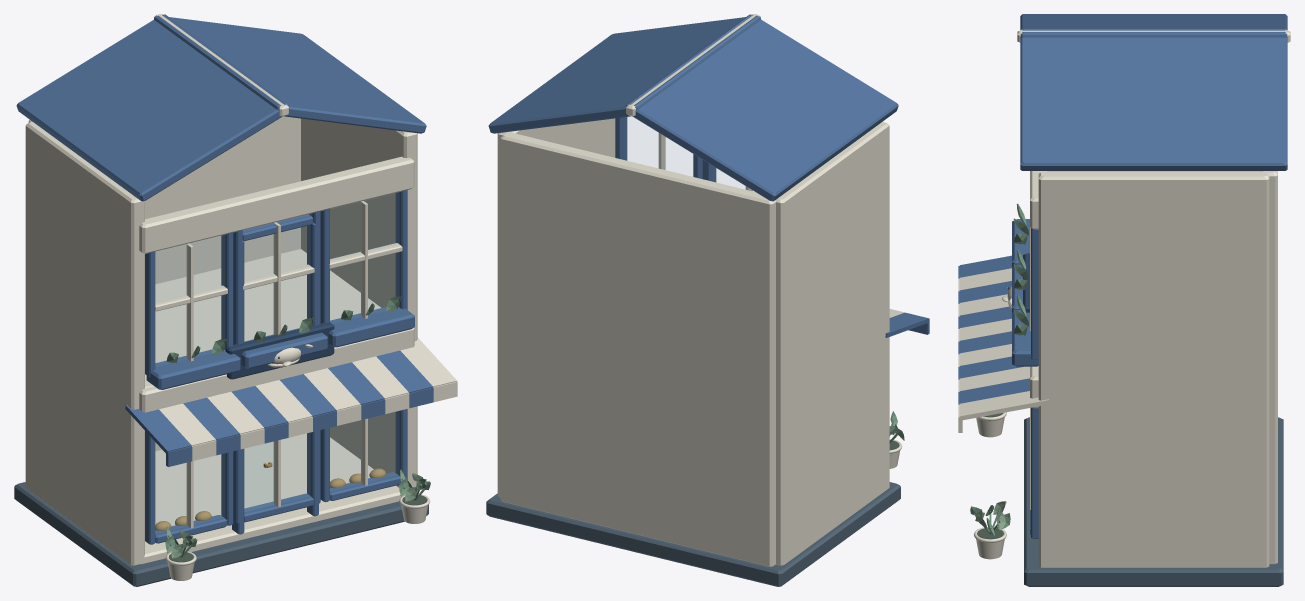
File: v18_buildings_cafe.glb
3 renders of one model, left to right at view 1: azimuth 30°, elevation 25°; view 2: azimuth 150°, elevation 25°; view 3: azimuth 270°, elevation 25°, orthographic. The views are drawn at different scales.
Visible parts, largest first — view 1: _MeshInstance3D_2821, _MeshInstance3D_2898, _MeshInstance3D_2822, _MeshInstance3D_2899, _MeshInstance3D_2824, _MeshInstance3D_2823, _MeshInstance3D_2855, _MeshInstance3D_2854, _MeshInstance3D_2820, _MeshInstance3D_2825, _MeshInstance3D_2862, _MeshInstance3D_2888 (+36 smaller); view 2: _MeshInstance3D_2823, _MeshInstance3D_2821, _MeshInstance3D_2898, _MeshInstance3D_2899, _MeshInstance3D_2820, _MeshInstance3D_2822, _MeshInstance3D_2901; view 3: _MeshInstance3D_2822, _MeshInstance3D_2899, _MeshInstance3D_2820, _MeshInstance3D_2898, _MeshInstance3D_2823, _MeshInstance3D_2923, _MeshInstance3D_2840, _MeshInstance3D_2883, _MeshInstance3D_2921, _MeshInstance3D_2919, _MeshInstance3D_2888, _MeshInstance3D_2917 (+13 smaller).
Boxes of the visible parts, <box> form: _MeshInstance3D_2821: <box>25,122,144,565</box>; _MeshInstance3D_2898: <box>16,14,289,201</box>; _MeshInstance3D_2822: <box>301,118,417,492</box>; _MeshInstance3D_2899: <box>154,15,426,133</box>; _MeshInstance3D_2824: <box>141,433,405,564</box>; _MeshInstance3D_2823: <box>28,116,300,451</box>; _MeshInstance3D_2855: <box>139,156,414,253</box>; _MeshInstance3D_2854: <box>145,249,380,388</box>; _MeshInstance3D_2820: <box>14,482,428,586</box>; _MeshInstance3D_2825: <box>139,328,414,412</box>; _MeshInstance3D_2862: <box>146,349,240,389</box>; _MeshInstance3D_2888: <box>328,307,414,347</box>; _MeshInstance3D_2823: <box>500,132,775,566</box>; _MeshInstance3D_2821: <box>775,122,889,565</box>; _MeshInstance3D_2898: <box>625,14,898,201</box>; _MeshInstance3D_2899: <box>488,15,760,133</box>; _MeshInstance3D_2820: <box>486,482,900,586</box>; _MeshInstance3D_2822: <box>497,118,615,497</box>; _MeshInstance3D_2901: <box>885,312,929,337</box>; _MeshInstance3D_2822: <box>1038,171,1269,567</box>; _MeshInstance3D_2899: <box>1020,29,1287,170</box>; _MeshInstance3D_2820: <box>1024,417,1283,586</box>; _MeshInstance3D_2898: <box>1020,14,1287,38</box>; _MeshInstance3D_2823: <box>1261,171,1277,564</box>; _MeshInstance3D_2923: <box>959,391,1049,420</box>; _MeshInstance3D_2840: <box>1031,407,1038,538</box>; _MeshInstance3D_2883: <box>1031,228,1038,359</box>; _MeshInstance3D_2921: <box>959,378,1029,403</box>; _MeshInstance3D_2919: <box>959,366,1029,390</box>; _MeshInstance3D_2888: <box>1012,310,1038,366</box>; _MeshInstance3D_2917: <box>959,356,1023,378</box>.
Size of the model in its own units: 4.69 by 6.79 by 4.26.
